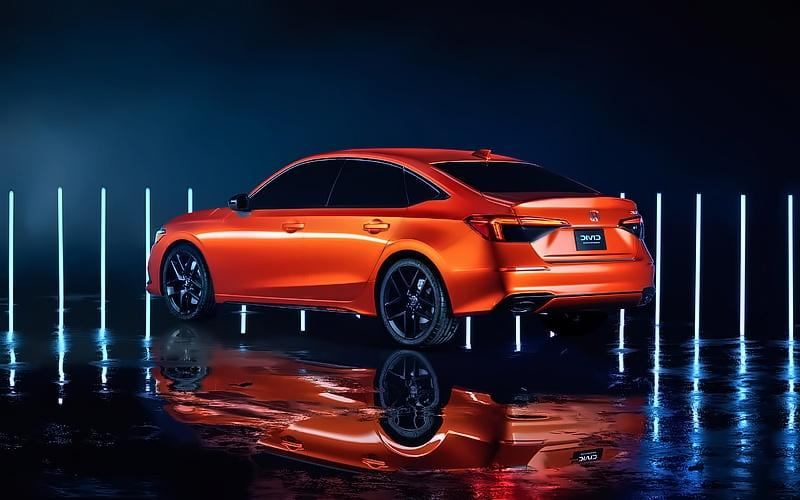Car boot: (479, 189, 643, 267)
Car hood: (161, 205, 223, 228)
Fender - -F-L-: (163, 205, 229, 299)
Fender - -R-L-: (366, 205, 473, 292)
Front bumper: (144, 242, 165, 298)
Headlight - -L-: (151, 225, 169, 250)
Passenger-s door - -F-L-: (229, 152, 339, 306)
Passenger-s door - -R-L-: (326, 155, 413, 306)
Rear bumper: (435, 234, 662, 319)
Rear light - -L-: (463, 213, 573, 247)
Rear light - -R-: (614, 213, 648, 244)
Side bumper - -L-: (210, 279, 381, 319)
Side mirror - -L-: (222, 190, 256, 218)
